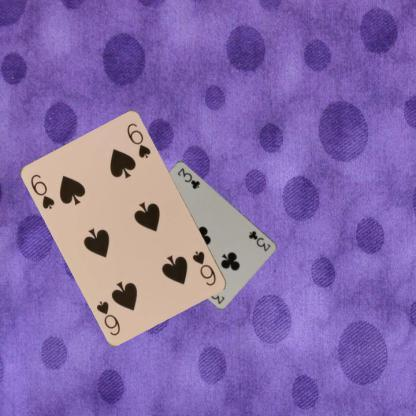3c: (246, 228, 272, 253)
6s: (190, 248, 218, 288), (29, 172, 56, 210)
